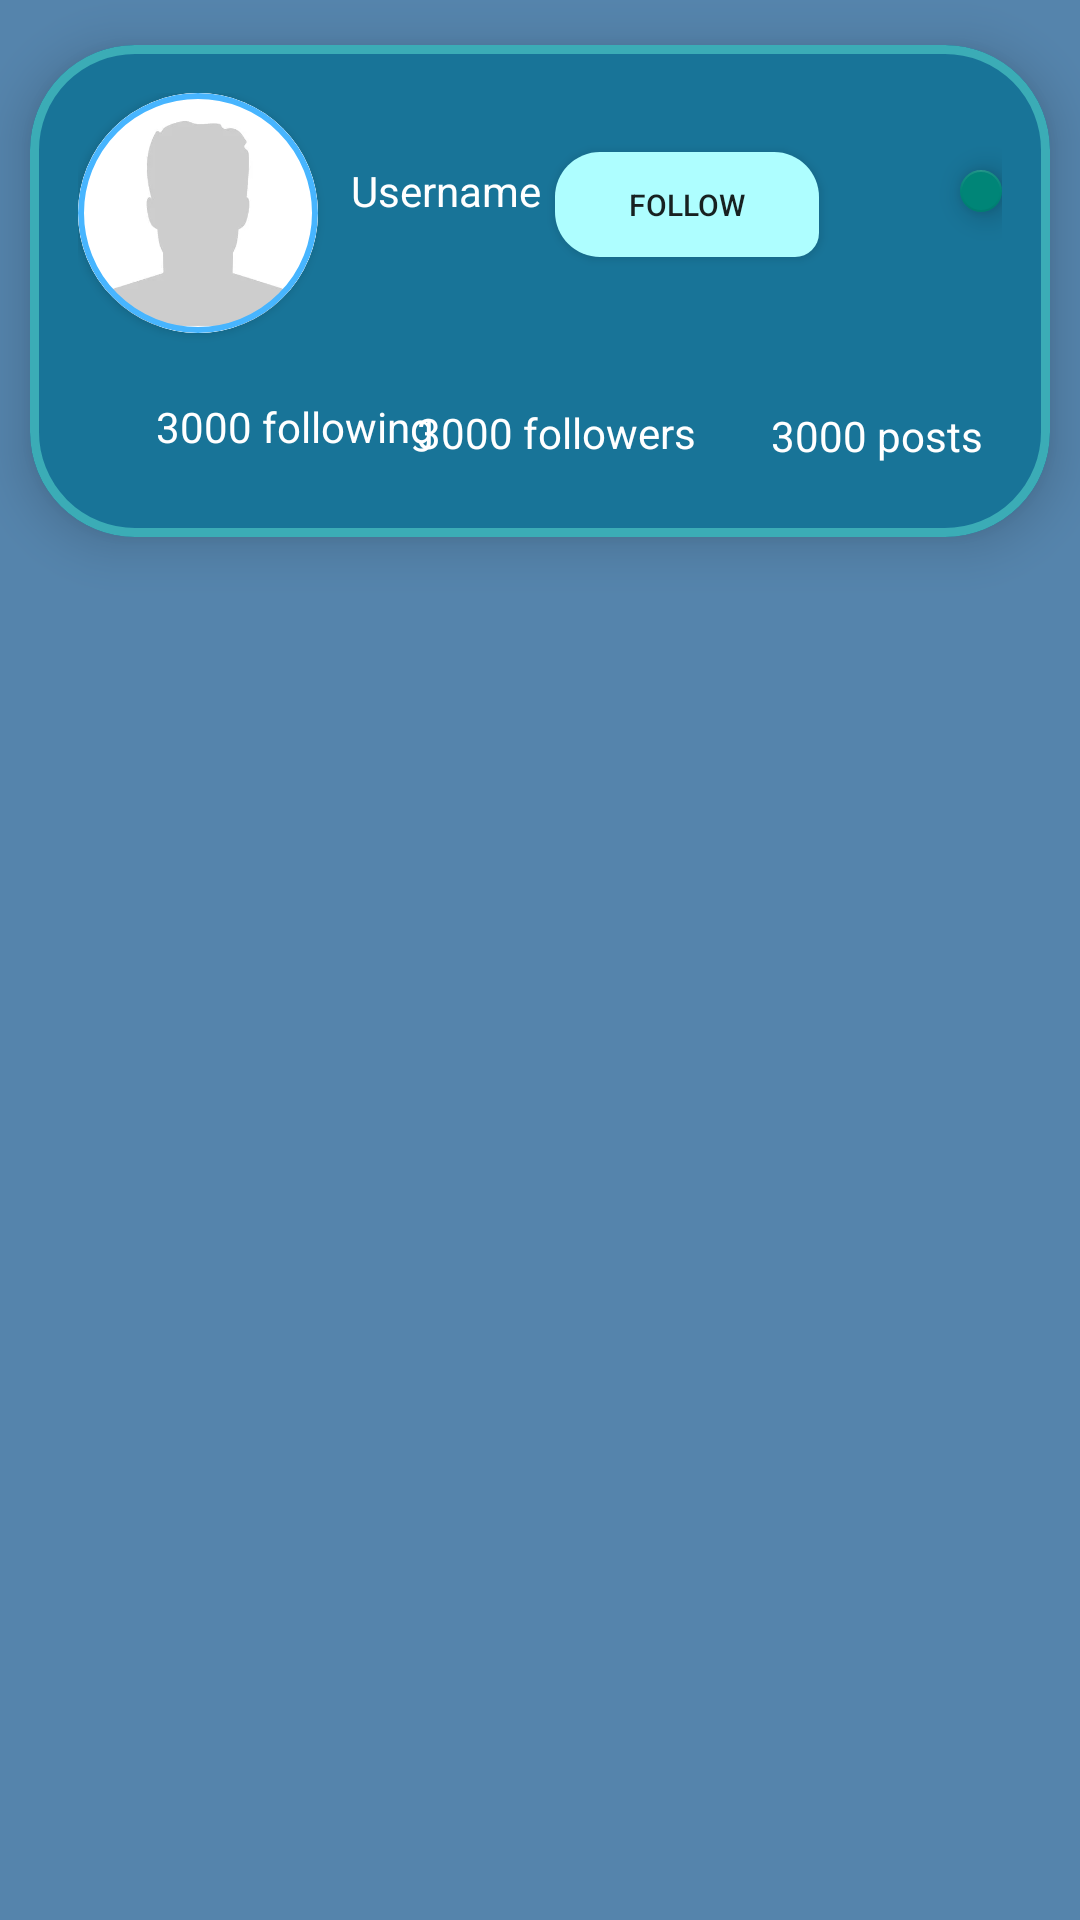

Where icons sit on this 1080px x 1920px app screen, as (x1, y1, x2, y2):
blankuser: (78, 93, 318, 333)
